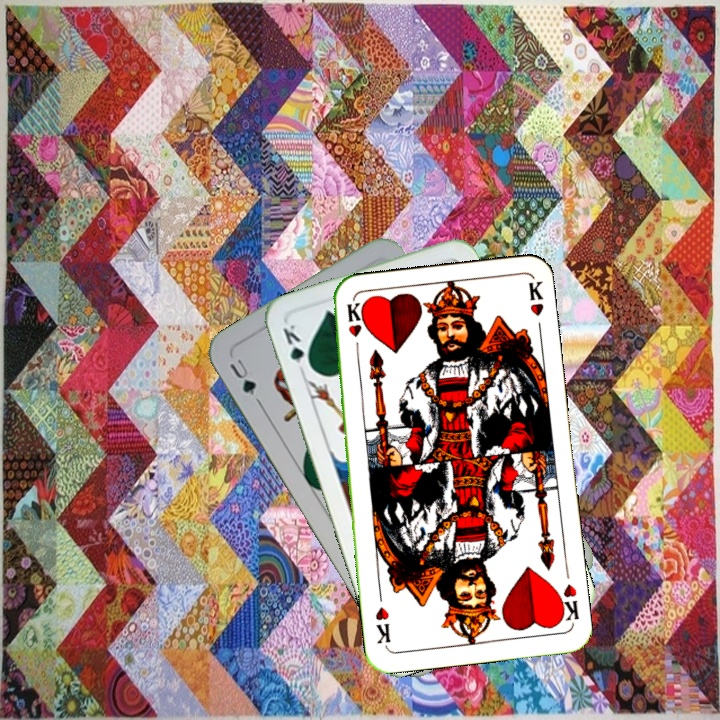GK: (278, 320, 315, 377)
GU: (225, 354, 263, 406)
HK: (552, 580, 581, 626), (342, 299, 363, 358)
